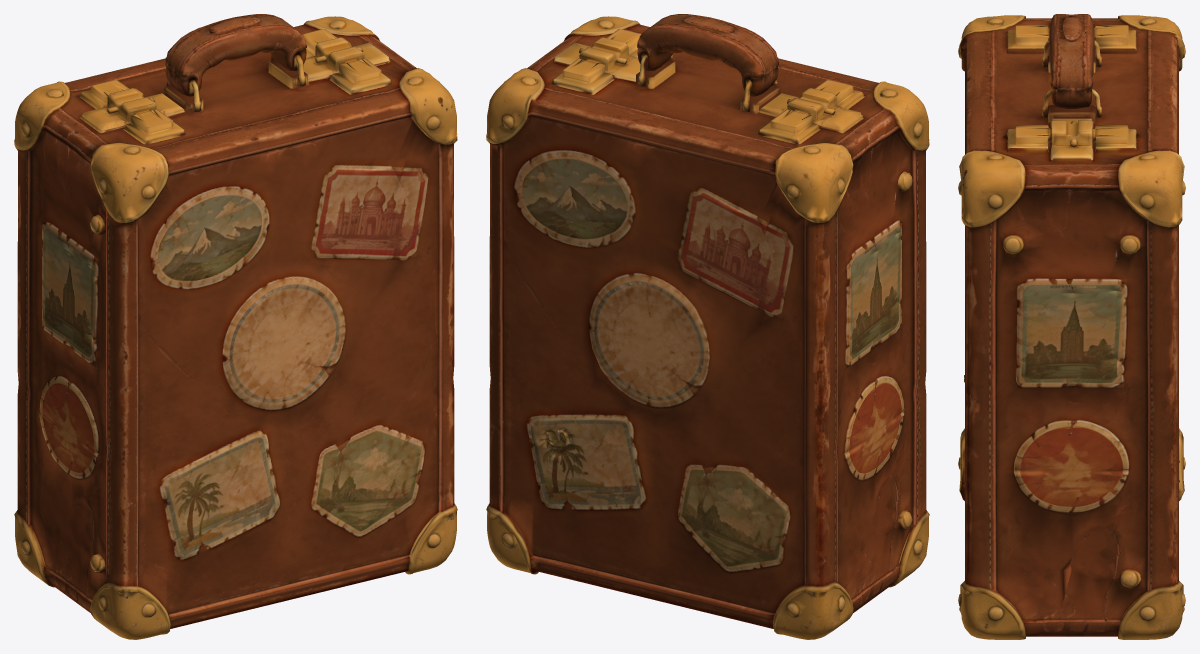
Rendered from suitcase.glb.
3 views of the same model, side by side, from view 1: azimuth 30°, elevation 25°; view 2: azimuth 150°, elevation 25°; view 3: azimuth 270°, elevation 25° (orthographic).
Visible parts, largest first — view 1: tripo_node_40da8d93-8150-41e4-bc9d-779e6b8b33d1; view 2: tripo_node_40da8d93-8150-41e4-bc9d-779e6b8b33d1; view 3: tripo_node_40da8d93-8150-41e4-bc9d-779e6b8b33d1.
Part boxes in pixels (left/top/right/bottom): tripo_node_40da8d93-8150-41e4-bc9d-779e6b8b33d1: left=14, top=14, right=457, bottom=639; tripo_node_40da8d93-8150-41e4-bc9d-779e6b8b33d1: left=486, top=14, right=929, bottom=639; tripo_node_40da8d93-8150-41e4-bc9d-779e6b8b33d1: left=958, top=14, right=1185, bottom=639.
Size of the model in its own units: 0.6487 by 0.9779 by 0.3732.
1 material, 1 textured.
